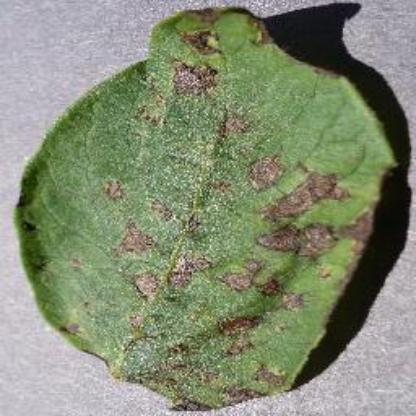Early-Blight: (12, 8, 402, 410)
